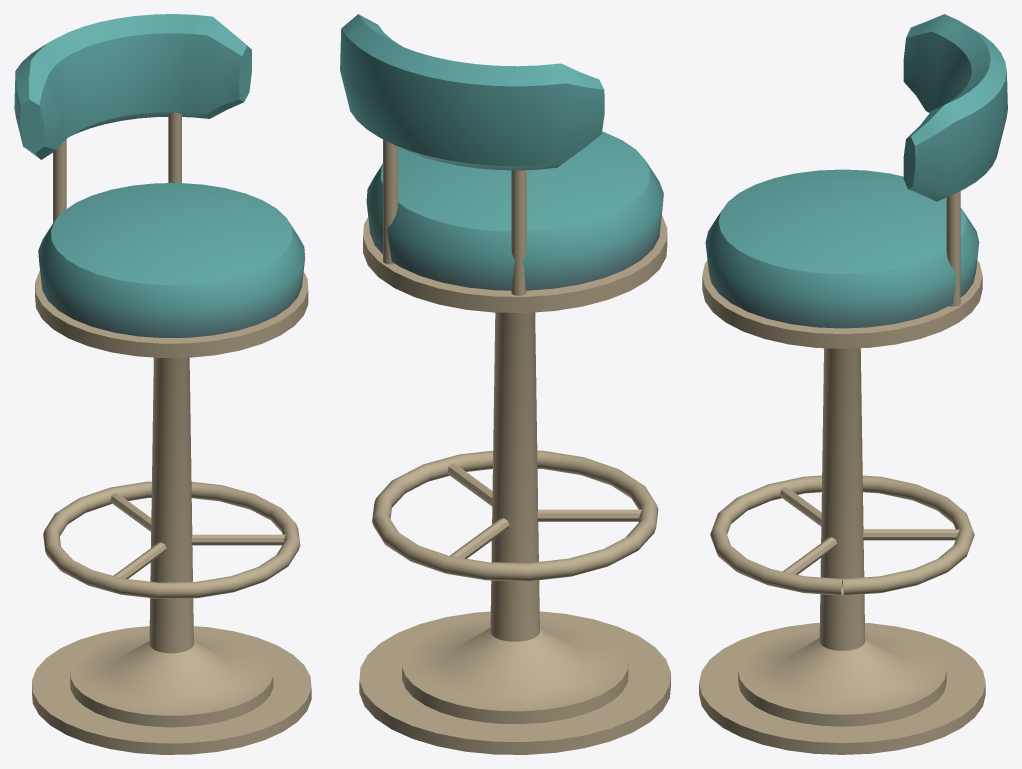
File: KC32__AD_Int_Bar_Stool.glb
3 renders of one model, left to right at view 1: azimuth 30°, elevation 25°; view 2: azimuth 150°, elevation 25°; view 3: azimuth 270°, elevation 25°, orthographic. The views are drawn at different scales.
Visible parts, largest first — view 1: KC32_BRONZE__AD_Int_Bar_Stool, KC32_CORPS__AD_Int_Bar_Stool; view 2: KC32_BRONZE__AD_Int_Bar_Stool, KC32_CORPS__AD_Int_Bar_Stool; view 3: KC32_BRONZE__AD_Int_Bar_Stool, KC32_CORPS__AD_Int_Bar_Stool.
Part boxes in pixels (x1,y1,x2,y2): KC32_BRONZE__AD_Int_Bar_Stool: (32,112,311,754); KC32_CORPS__AD_Int_Bar_Stool: (14,14,305,337); KC32_BRONZE__AD_Int_Bar_Stool: (359,139,670,754); KC32_CORPS__AD_Int_Bar_Stool: (340,14,663,290); KC32_BRONZE__AD_Int_Bar_Stool: (699,191,985,754); KC32_CORPS__AD_Int_Bar_Stool: (705,14,1007,328).
Bounding box in the file's own units: 0.44 × 1.08 × 0.474.
